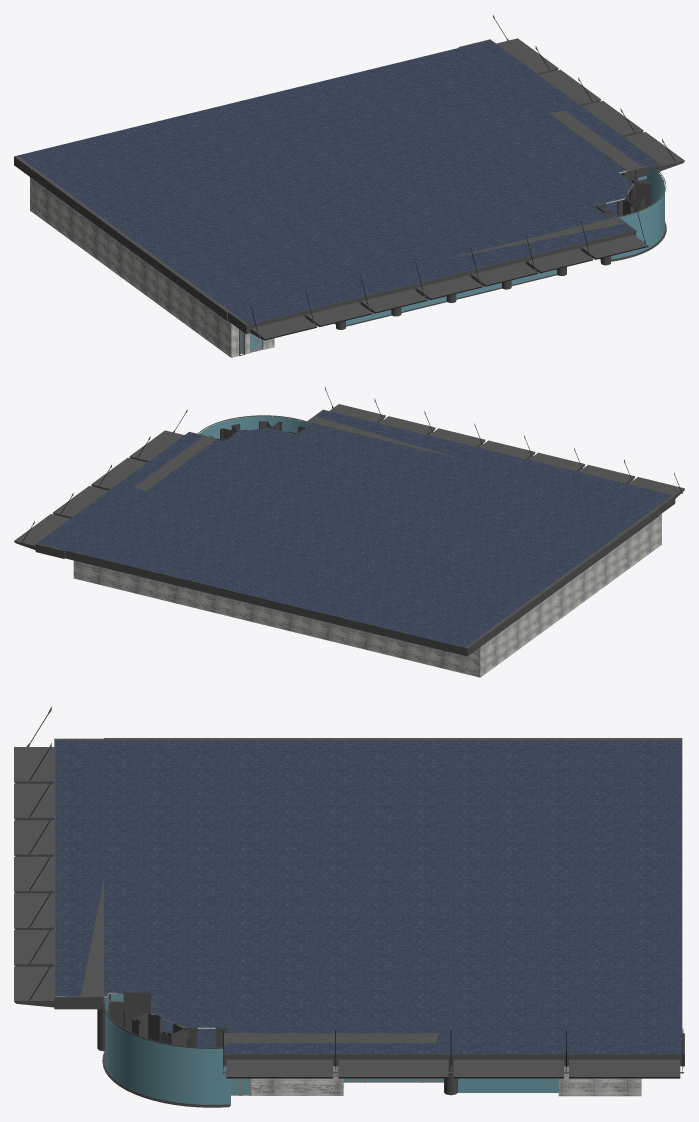
File: office2_hall_LOD1.FBX
3 renders of one model, top to bottom at view 1: azimuth 30°, elevation 25°; view 2: azimuth 150°, elevation 25°; view 3: azimuth 270°, elevation 25°, orthographic. The views are drawn at different scales.
Parts seen in each view (by area): view 1: floor003, structure005, walls006, glass003, exterior_columns001; view 2: floor003, structure005, walls006, glass003; view 3: floor003, structure005, glass003, walls006, exterior_columns001.
Boxes of the visible parts, x1,y1,x2,y2 form: floor003: (18, 40, 659, 324); structure005: (14, 15, 684, 355); walls006: (30, 177, 617, 357); glass003: (240, 167, 664, 354); exterior_columns001: (336, 222, 666, 329); floor003: (37, 410, 672, 647); structure005: (14, 387, 684, 656); walls006: (73, 513, 661, 677); glass003: (199, 416, 309, 438); floor003: (55, 740, 682, 1053); structure005: (14, 706, 684, 1105); glass003: (105, 994, 558, 1105); walls006: (251, 1066, 641, 1096); exterior_columns001: (97, 994, 457, 1107).
Size of the model in its own units: 7534 by 986 by 6409.
